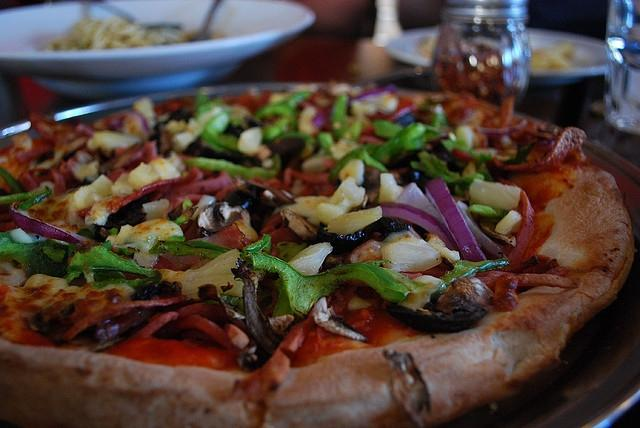hot pepper: (432, 0, 532, 108), (464, 56, 478, 73), (476, 49, 491, 62), (482, 70, 494, 81), (475, 45, 492, 52)
mushroom: (386, 275, 494, 334), (230, 258, 284, 356), (307, 216, 411, 255), (382, 349, 431, 428), (70, 306, 150, 352), (182, 134, 262, 168), (312, 296, 368, 342), (198, 202, 251, 234), (106, 194, 151, 229), (244, 177, 296, 207), (98, 142, 139, 176), (263, 138, 307, 168), (282, 208, 318, 241)
onion: (372, 201, 464, 260), (424, 176, 486, 262), (9, 205, 96, 248), (394, 182, 446, 226), (346, 91, 400, 126), (122, 110, 150, 139), (312, 106, 332, 130), (392, 106, 415, 122), (75, 124, 94, 137), (408, 227, 424, 240)
